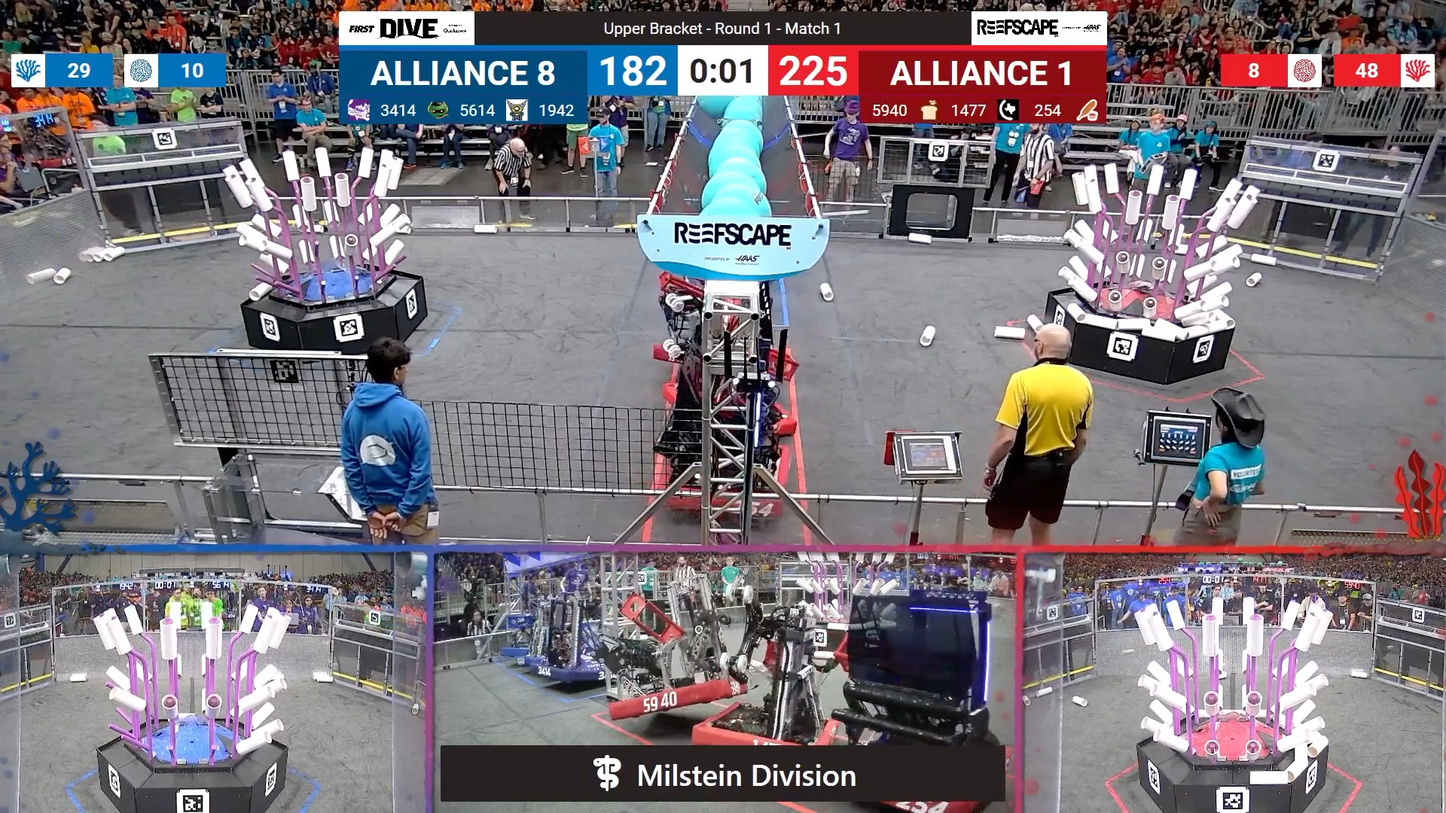bumpers: (652, 440, 802, 523), (690, 700, 843, 765), (651, 380, 797, 437), (609, 676, 754, 723), (512, 655, 620, 688), (643, 343, 691, 377)
